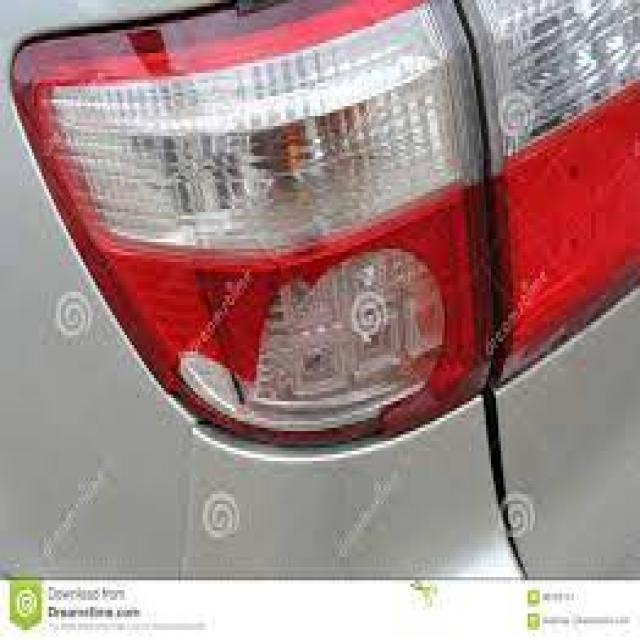damaged-tail-light: (8, 0, 640, 462)
